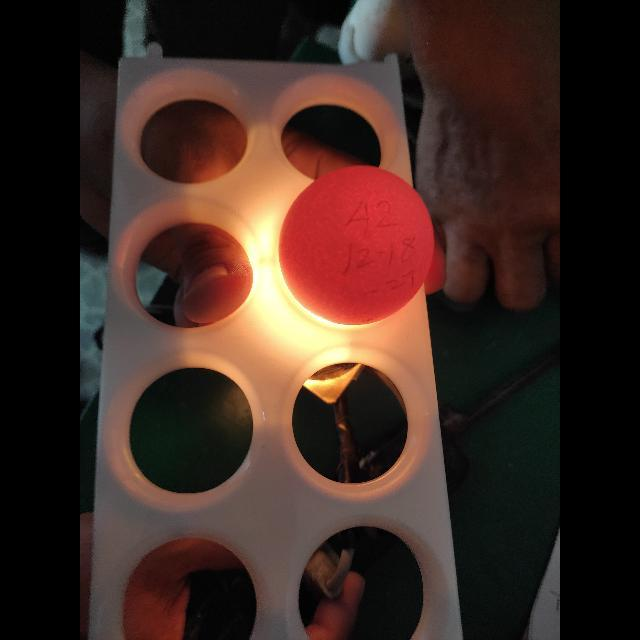A - Good: (279, 162, 437, 322)
